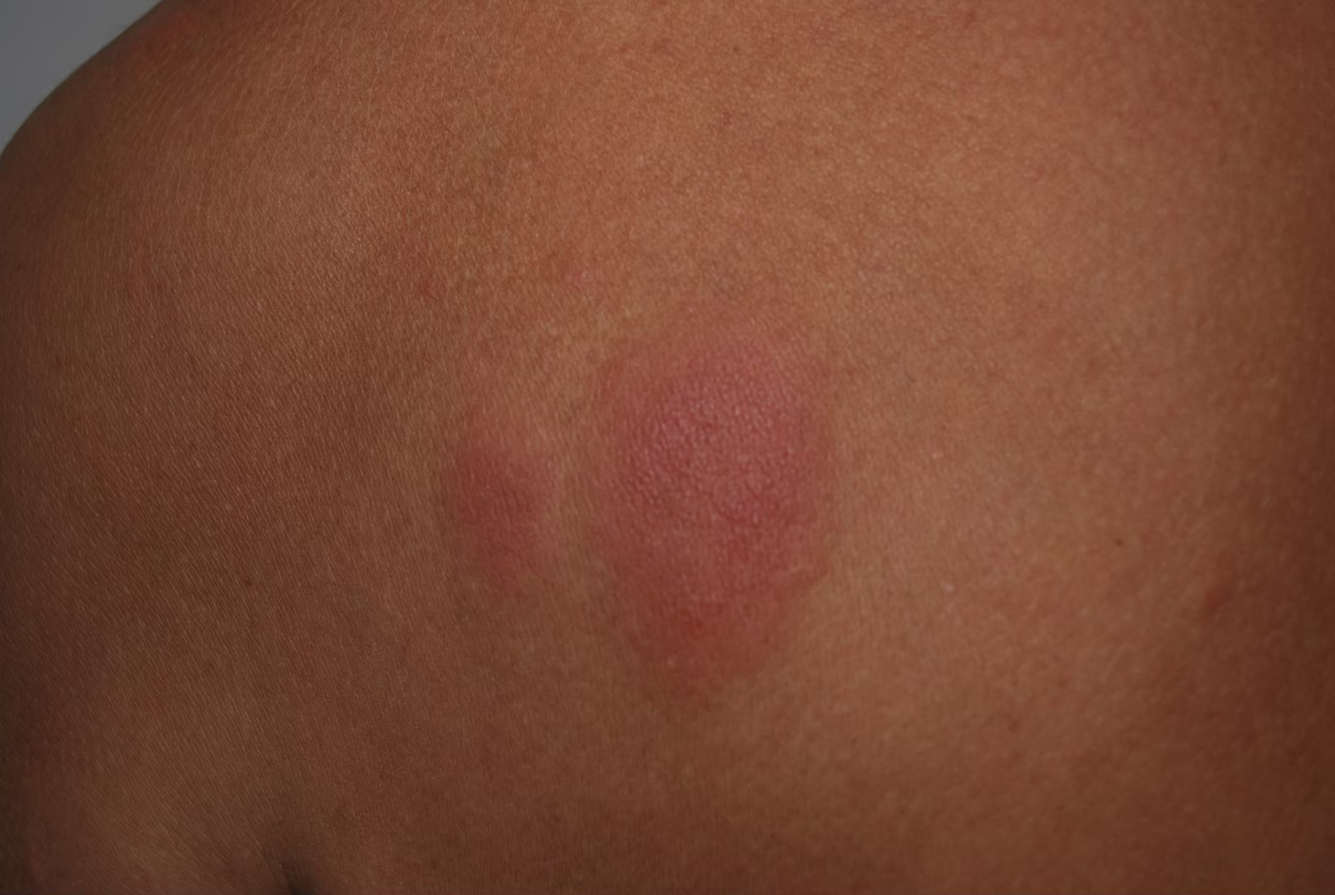Leprosy: (582, 308, 856, 700), (428, 429, 566, 596)
